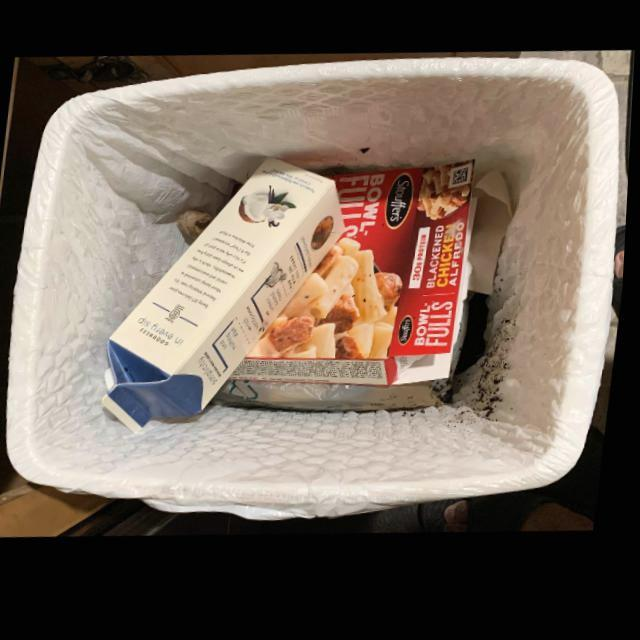cardboard: (234, 167, 480, 394)
paper: (470, 177, 516, 304)
